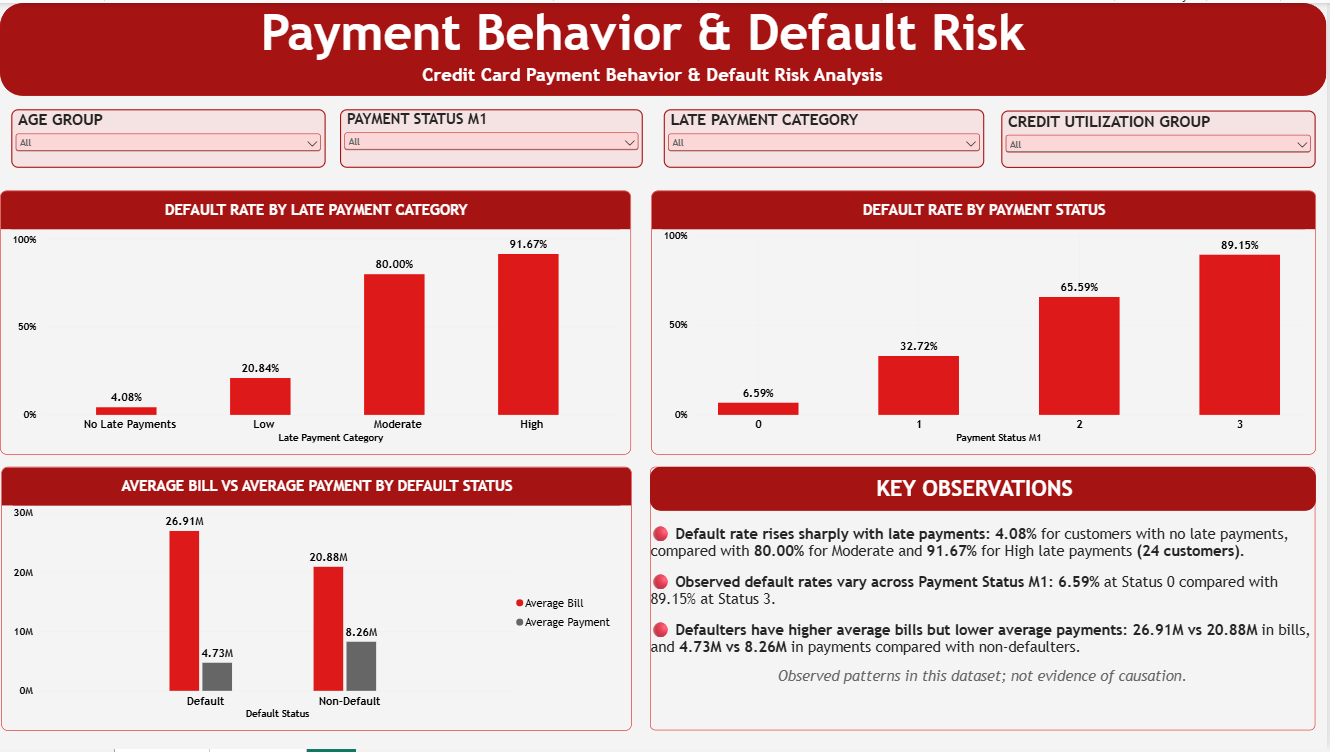

This screenshot's page, from the dashboard's own definition file:
{"tool":"powerbi","page":{"name":"Page 2","canvas":[1920,1080],"ordinal":1},"visuals":[{"type":"group","id":"g1","title":"Group 4","box":[0,0,1920.4,153.3],"z":0},{"type":"shape","box":[0,0,1920.4,134.6],"z":0,"group":"g1"},{"type":"textbox","box":[941,671.7,963.2,381.6],"z":0,"group":"g2"},{"type":"textbox","box":[175.6,0,1510.6,87.8],"z":1000,"group":"g1"},{"type":"slicer","title":"Credit Limit Group","fields":{"Values":["Clean_Data.PaymentStatus_M1"]},"box":[492.9,154,438.5,85.2],"z":1000},{"type":"shape","box":[941.4,671.4,964.2,63.6],"z":1000,"group":"g2"},{"type":"textbox","box":[196.3,87.9,1490.3,65.4],"z":2000,"group":"g1"},{"type":"slicer","title":"Credit Limit Group","fields":{"Values":["Clean_Data.Late_Payment_Category"]},"box":[960.4,154,463.9,85.2],"z":2000},{"type":"textbox","box":[1239.6,684.5,335.8,50.5],"z":2000,"group":"g2"},{"type":"slicer","title":"Credit Limit Group","fields":{"Values":["Clean_Data.Age_Group"]},"box":[16.3,154,454.8,85.2],"z":3000},{"type":"slicer","title":"Credit Limit Group","fields":{"Values":["Clean_Data.Credit_Utilization_Group"]},"box":[1449.6,155.8,454.8,83.4],"z":4000},{"type":"clusteredColumnChart","title":"DEFAULT RATE BY LATE PAYMENT CATEGORY","fields":{"Category":["Clean_Data.Late_Payment_Category"],"Y":["Clean_Data.Default Rate % (Page 2)"]},"box":[0,271.8,913.3,382.3],"z":5000},{"type":"clusteredColumnChart","title":"DEFAULT RATE BY PAYMENT STATUS","fields":{"Category":["Clean_Data.PaymentStatus_M1"],"Y":["Clean_Data.Default Rate % (Page 2)"]},"box":[942.2,271.8,962.2,382.3],"z":6000},{"type":"clusteredColumnChart","title":"AVERAGE BILL VS AVERAGE PAYMENT BY DEFAULT STATUS","fields":{"Category":["Clean_Data.Default Status"],"Y":["Clean_Data.Average Bill (Page 2)","Clean_Data.Average Payment (Page 2)"]},"box":[1.9,670.7,912.4,382.2],"z":7000},{"type":"group","id":"g2","title":"Group 1","box":[941,671.4,964.5,381.8],"z":8003}]}

Visuals, with their boxes in screenshot pixels (x1, y1, x2, y2), scaled from the page's 1920x1080 canvas onto the 1330x752 screenshot:
"Group 4" group: left=0, top=0, right=1329, bottom=107
shape: left=0, top=0, right=1329, bottom=94
textbox: left=652, top=468, right=1319, bottom=733
textbox: left=122, top=0, right=1168, bottom=61
"Credit Limit Group" slicer: left=341, top=107, right=645, bottom=167
shape: left=652, top=467, right=1320, bottom=512
textbox: left=136, top=61, right=1168, bottom=107
"Credit Limit Group" slicer: left=665, top=107, right=987, bottom=167
textbox: left=859, top=477, right=1091, bottom=512
"Credit Limit Group" slicer: left=11, top=107, right=326, bottom=167
"Credit Limit Group" slicer: left=1004, top=108, right=1319, bottom=167
"DEFAULT RATE BY LATE PAYMENT CATEGORY" clusteredColumnChart: left=0, top=189, right=633, bottom=455
"DEFAULT RATE BY PAYMENT STATUS" clusteredColumnChart: left=653, top=189, right=1319, bottom=455
"AVERAGE BILL VS AVERAGE PAYMENT BY DEFAULT STATUS" clusteredColumnChart: left=1, top=467, right=633, bottom=733
"Group 1" group: left=652, top=467, right=1320, bottom=733
